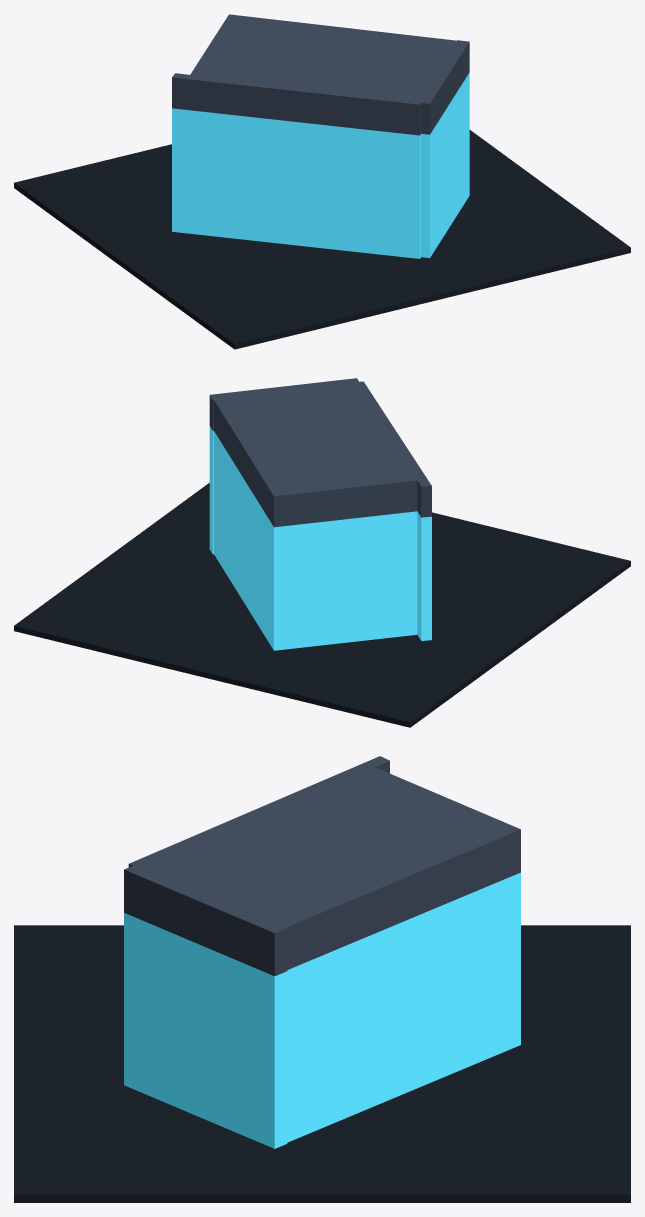
The model's file is sf-3703081-assembled.glb.
3 views of the same model, one above another, from view 1: azimuth 30°, elevation 25°; view 2: azimuth 150°, elevation 25°; view 3: azimuth 270°, elevation 25° (orthographic). The views are drawn at different scales.
Parts seen in each view (by area): view 1: Ground, Floor 5, Floor 3, Floor 4, Floor 1, Floor 2; view 2: Ground, Floor 5, Floor 4, Floor 3, Floor 1, Floor 2; view 3: Ground, Floor 5, Floor 1, Floor 3, Floor 2, Floor 4.
Part boxes in pixels (box(x1,y1,x2,y2)): Ground: box(14, 130, 630, 349); Floor 5: box(172, 14, 469, 135); Floor 3: box(172, 103, 469, 197); Floor 4: box(172, 72, 469, 166); Floor 1: box(172, 165, 469, 258); Floor 2: box(172, 134, 469, 227); Ground: box(14, 483, 630, 727); Floor 5: box(209, 378, 431, 527); Floor 4: box(209, 426, 431, 557); Floor 3: box(209, 457, 431, 588); Floor 1: box(209, 519, 431, 650); Floor 2: box(209, 488, 431, 619); Ground: box(14, 925, 630, 1202); Floor 5: box(124, 756, 520, 976); Floor 1: box(124, 1002, 520, 1148); Floor 3: box(124, 915, 520, 1062); Floor 2: box(124, 959, 520, 1105); Floor 4: box(124, 872, 520, 1019).
Size of the model in its own units: 0.155 by 0.0597 by 0.1495.
